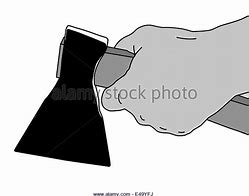axe: (12, 23, 249, 170)
